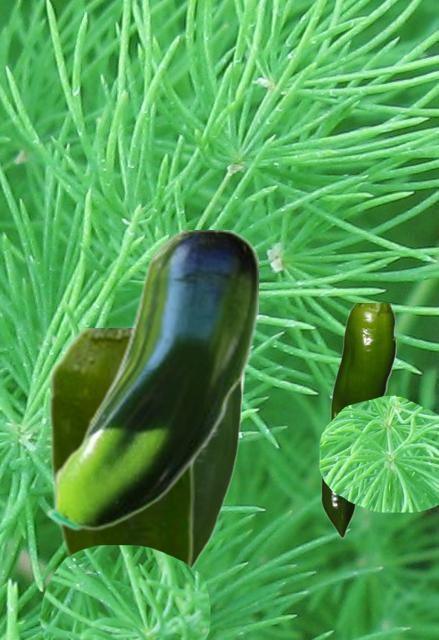green_chili: (45, 230, 257, 531), (47, 328, 193, 567), (320, 303, 395, 537), (193, 381, 244, 567)
